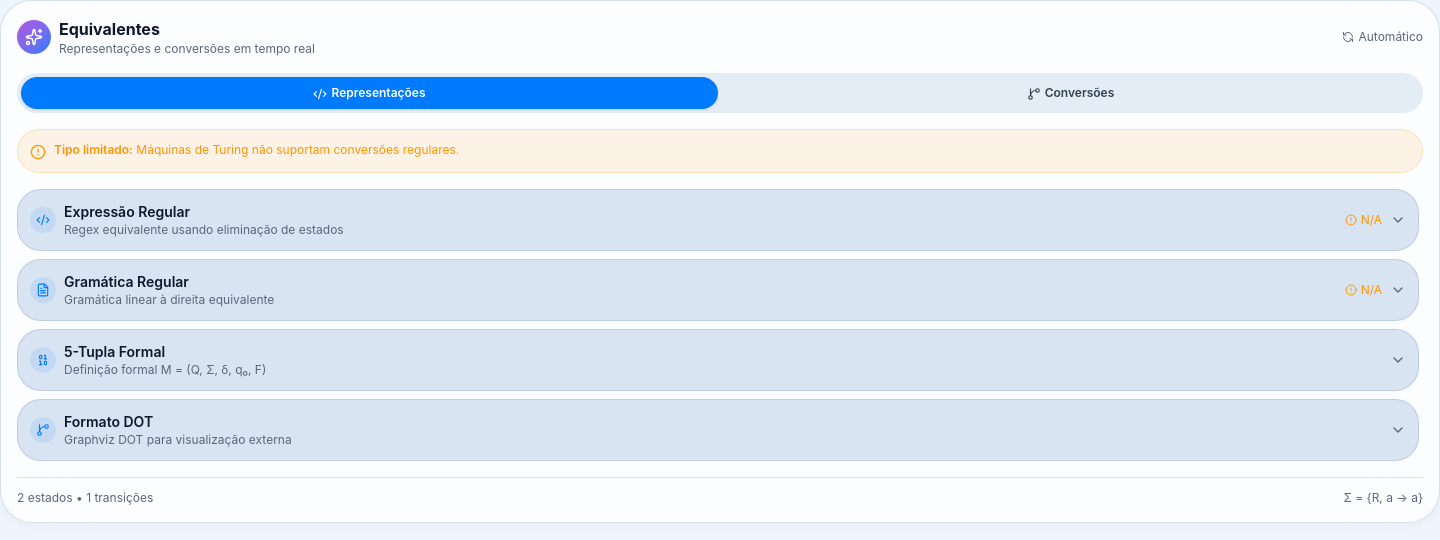
EquivalentsPanel › oculta conversões indisponíveis em vez de mostrar cards N/A
The width and height of the screenshot is (1440, 540).
Click the button "Conversões" at [1070, 93], box [722,77,1419,109]
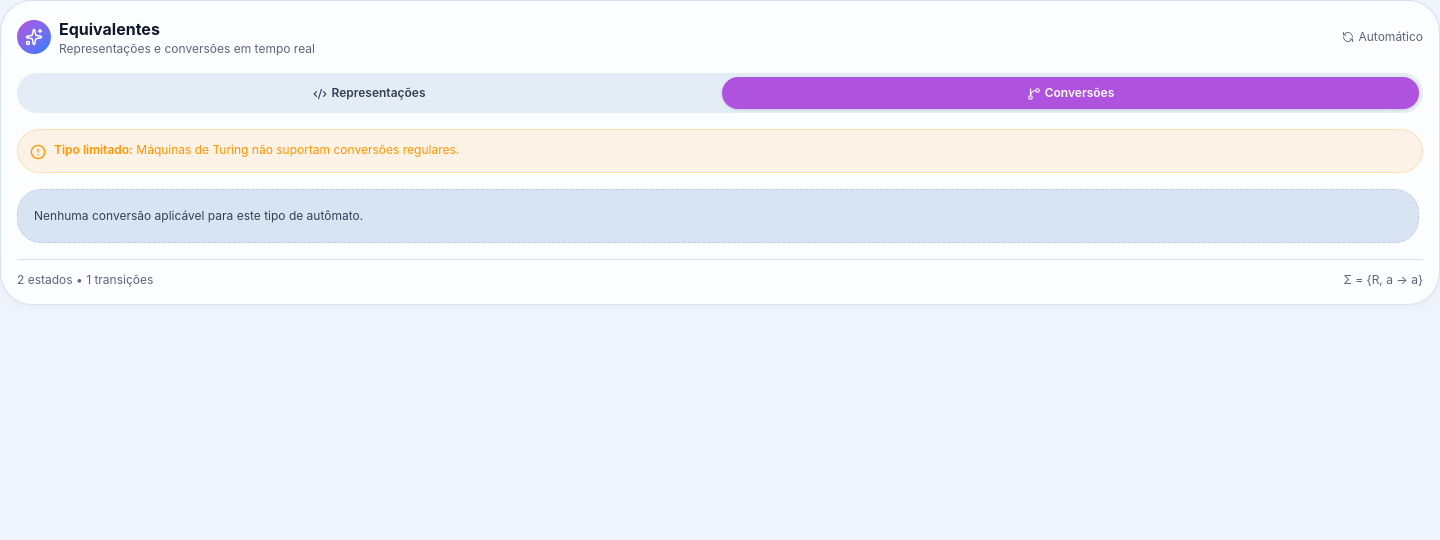
Now the button "N/A" is gone
Now the text "Nenhuma conversão aplicável para este tipo de autômato." is shown, box [17,189,1419,242]
